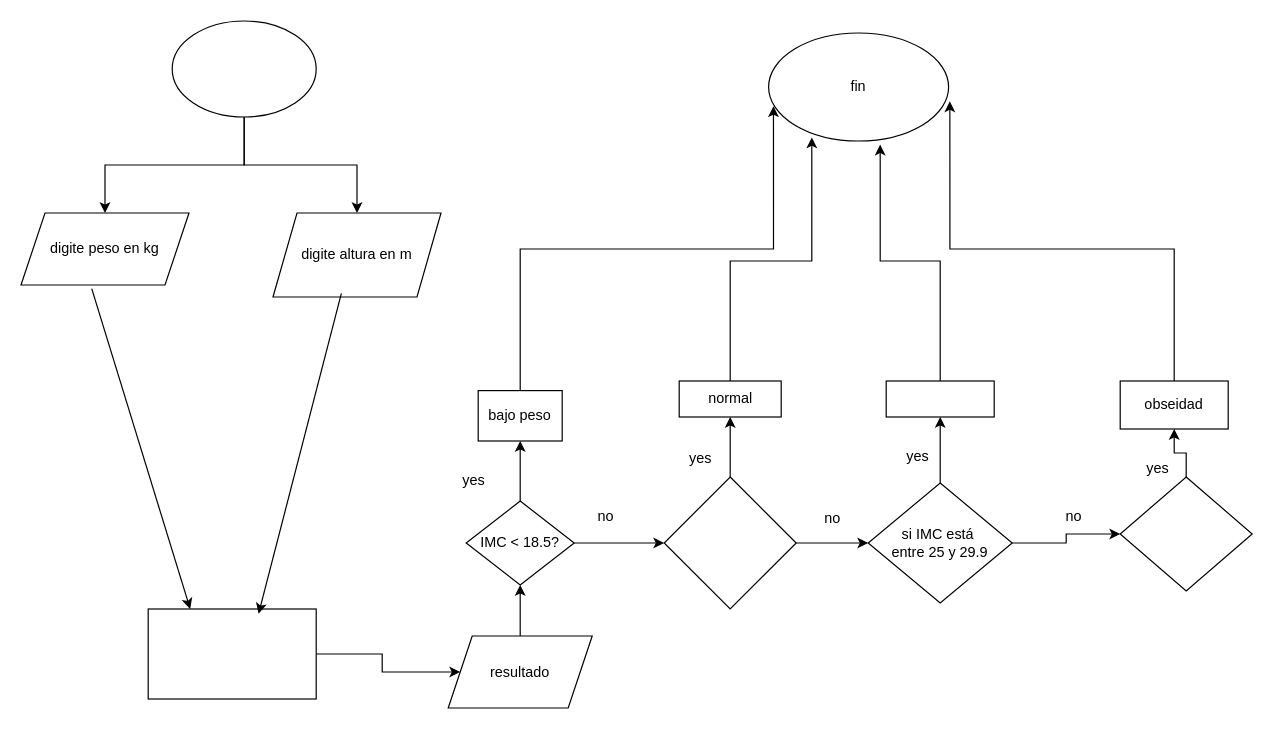
Some shapes in this 1273 by 730 pixel diagram are drawn without their labels. The centre of each missing label's shape, as x and y in pixels:
calcule IMC=peso/altura: the point at 231,653
inicio: the point at 243,68
si IMC es mayor o igual a 30: the point at 1185,533
si imc esta entre 18.5 y 24.9: the point at 729,542
sobrepeso: the point at 939,398
